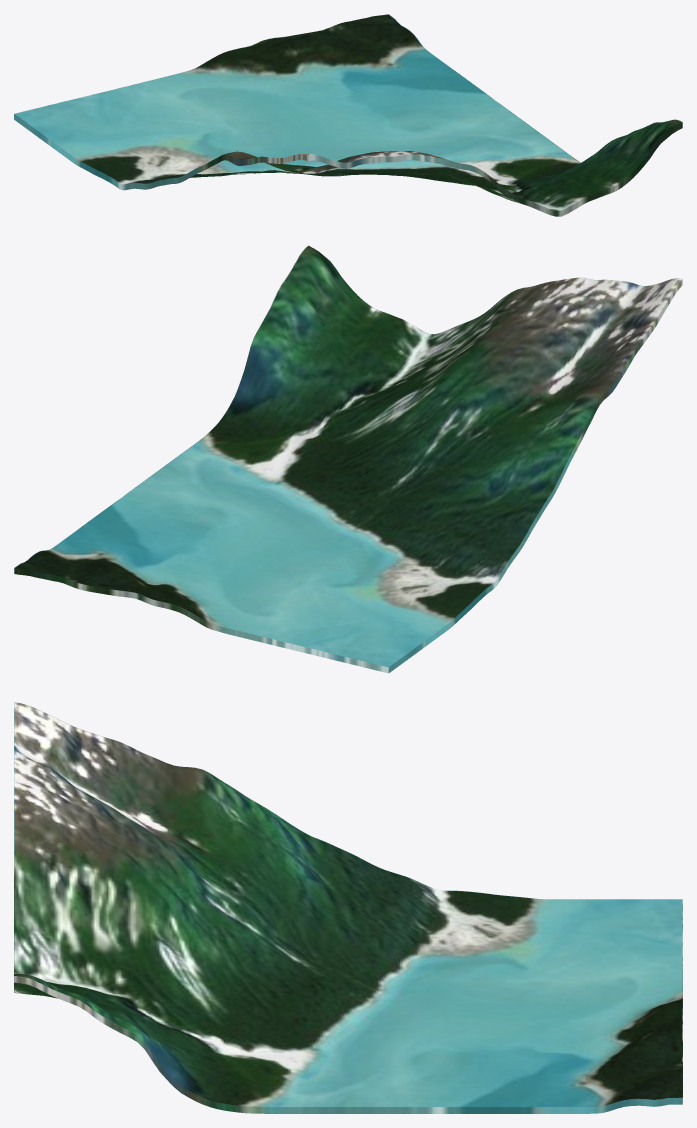
3 views of the same model, one above another, from view 1: azimuth 30°, elevation 25°; view 2: azimuth 150°, elevation 25°; view 3: azimuth 270°, elevation 25° (orthographic). The views are drawn at different scales.
Visible parts, largest first — view 1: tile; view 2: tile; view 3: tile.
Part boxes in pixels (left/top/right/bottom): tile: left=14, top=14, right=682, bottom=216; tile: left=14, top=245, right=682, bottom=673; tile: left=14, top=702, right=682, bottom=1113.
Bounding box in the file's own units: 2025 × 925 × 2752.
1 material, 1 textured.
